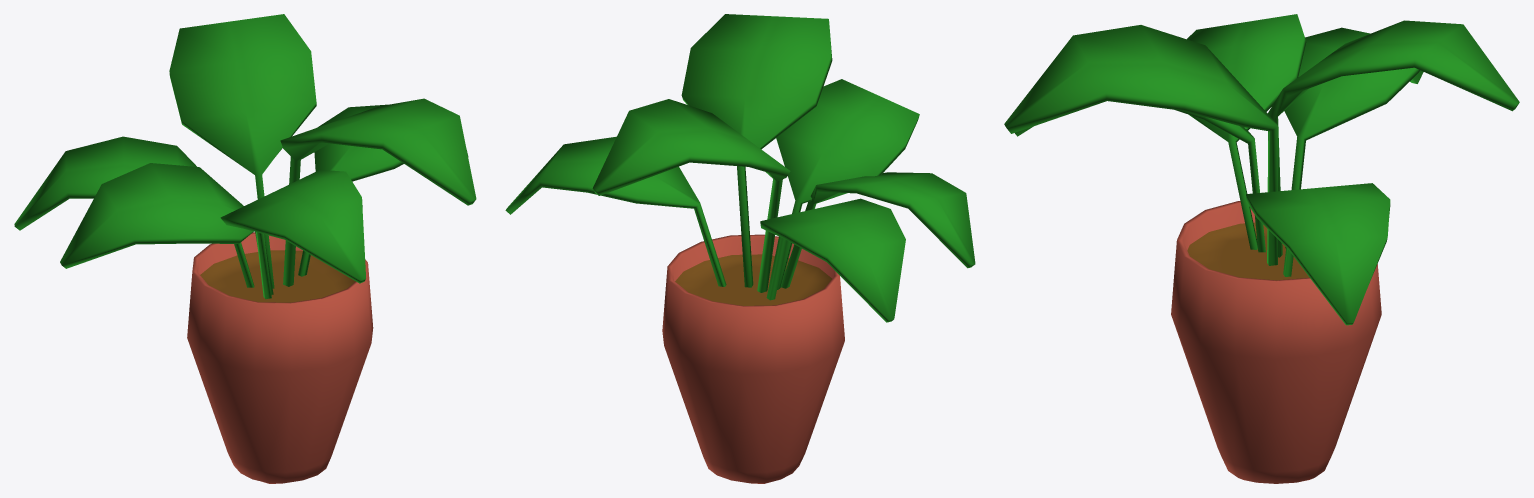
The model's file is Plant.fbx.
3 views of the same model, side by side, from view 1: azimuth 30°, elevation 25°; view 2: azimuth 150°, elevation 25°; view 3: azimuth 270°, elevation 25° (orthographic). The views are drawn at different scales.
Visible parts, largest first — view 1: Plant; view 2: Plant; view 3: Plant.
Boxes of the visible parts, x1,y1,x2,y2 form: Plant: [14, 14, 476, 483]; Plant: [505, 14, 975, 483]; Plant: [1004, 14, 1519, 483].
Size of the model in its own units: 101 by 86.65 by 90.6.
